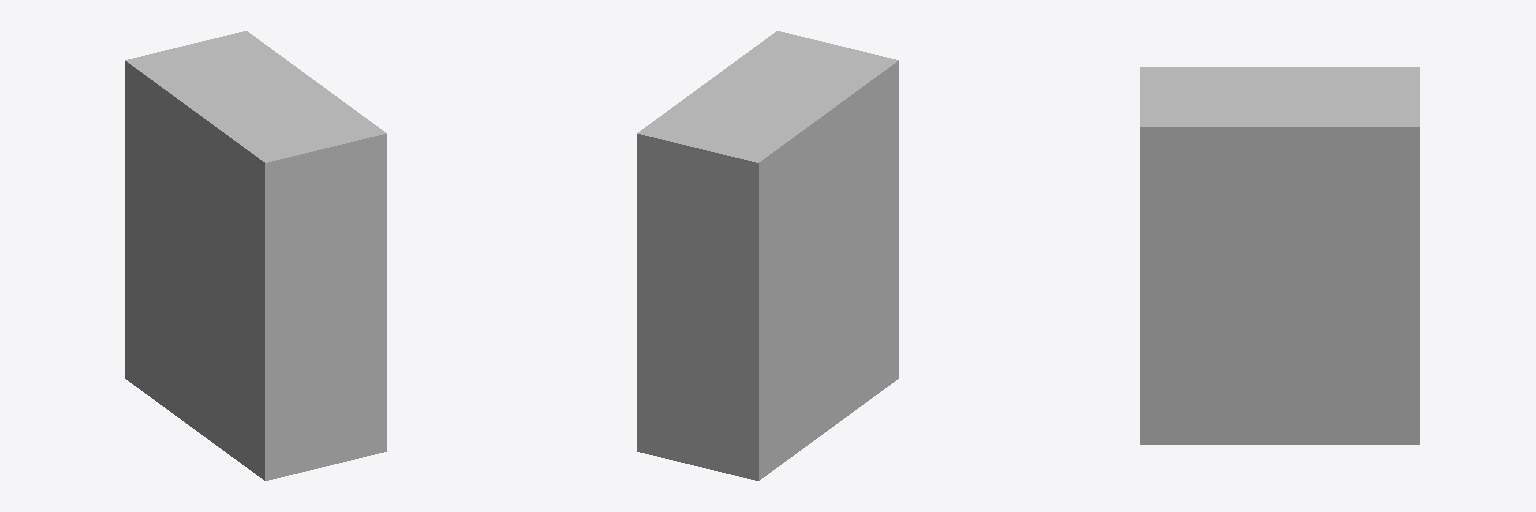
3 renders of one model, left to right at view 1: azimuth 30°, elevation 25°; view 2: azimuth 150°, elevation 25°; view 3: azimuth 270°, elevation 25°, orthographic.
Visible parts, largest first — view 1: ControlBox; view 2: ControlBox; view 3: ControlBox.
Boxes of the visible parts, x1,y1,x2,y2 form: ControlBox: [125, 31, 386, 480]; ControlBox: [637, 31, 898, 480]; ControlBox: [1140, 67, 1419, 444].
Bounding box in the file's own units: 2 × 5 × 4.